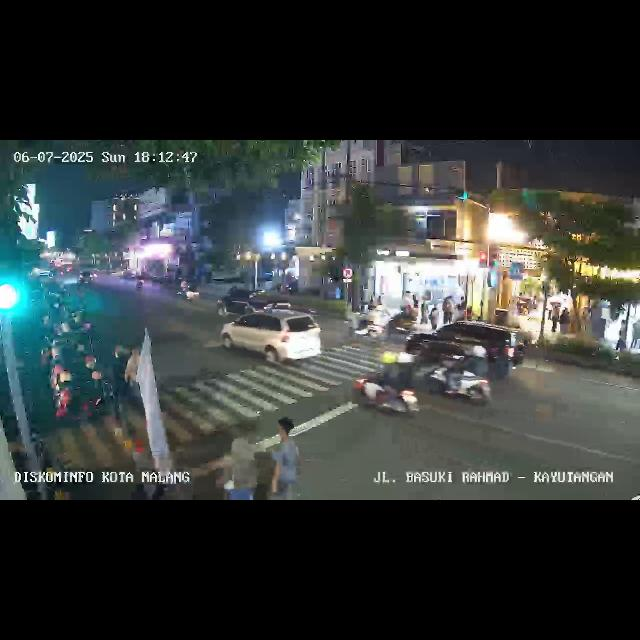car: (219, 305, 325, 367), (409, 320, 525, 372), (218, 289, 290, 315)
motorcycle: (352, 351, 423, 423), (422, 339, 494, 408), (346, 305, 386, 345), (382, 306, 421, 342), (177, 274, 200, 304), (135, 275, 145, 293)
person: (266, 417, 310, 499), (210, 434, 260, 501), (111, 344, 131, 430), (126, 348, 142, 390), (630, 316, 640, 352), (549, 302, 559, 334), (560, 304, 570, 336), (616, 322, 626, 353), (442, 296, 452, 326), (410, 292, 420, 320), (454, 297, 464, 323), (420, 294, 428, 324), (429, 303, 438, 329)
